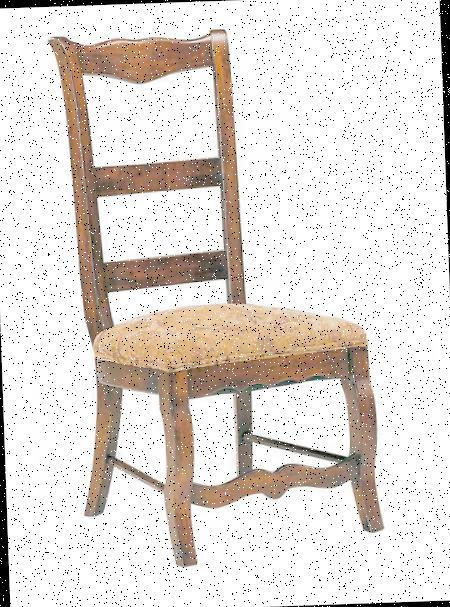Silla: (56, 20, 391, 568)
